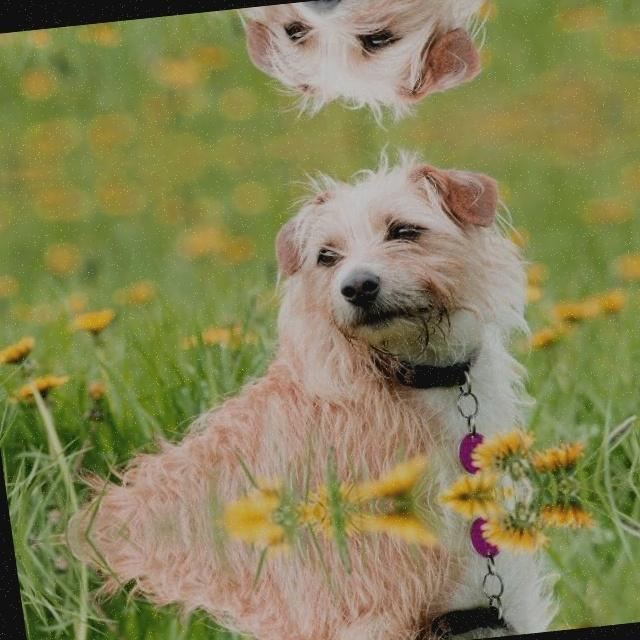dog: (255, 130, 548, 429), (236, 0, 508, 142), (316, 570, 580, 640)
